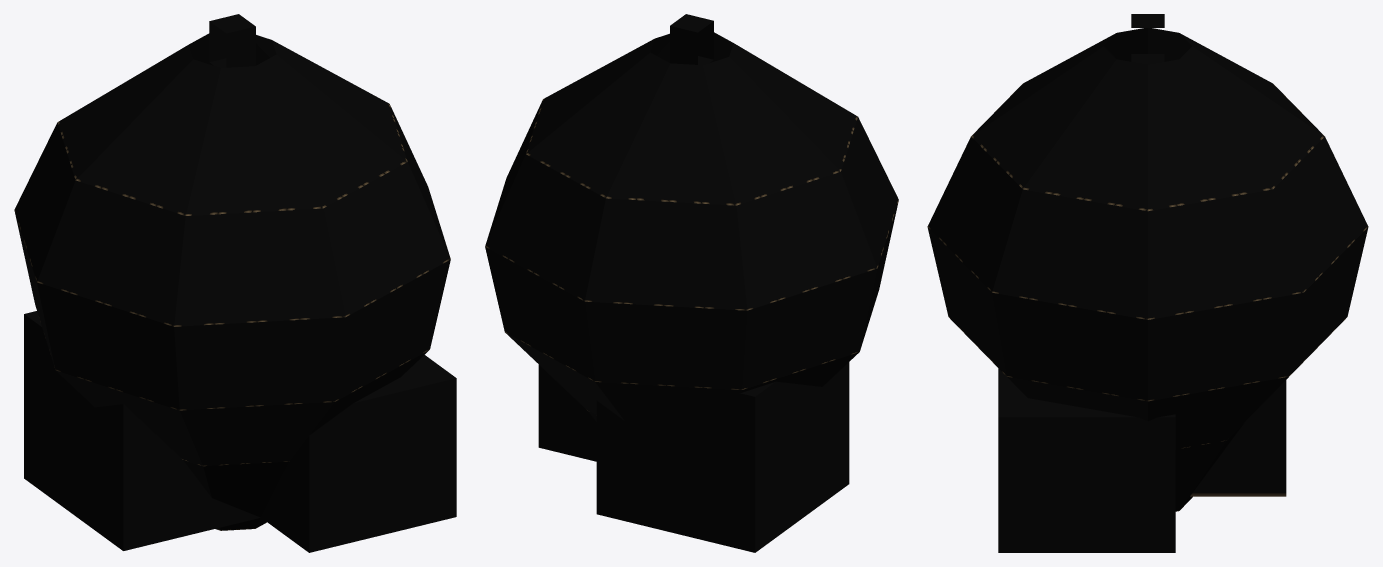
Rendered from filet_charge.obj.
The picture shows the model from 3 angles, left to right: view 1: azimuth 30°, elevation 25°; view 2: azimuth 150°, elevation 25°; view 3: azimuth 270°, elevation 25°; orthographic projection. The views are drawn at different scales.
Parts seen in each view (by area): view 1: corps; view 2: corps; view 3: corps.
Boxes of the visible parts, <box> form: corps: <box>14,14,456,552</box>; corps: <box>485,14,898,552</box>; corps: <box>927,14,1368,552</box>.
Bounding box in the file's own units: 0.7964 × 0.95 × 0.7964.
